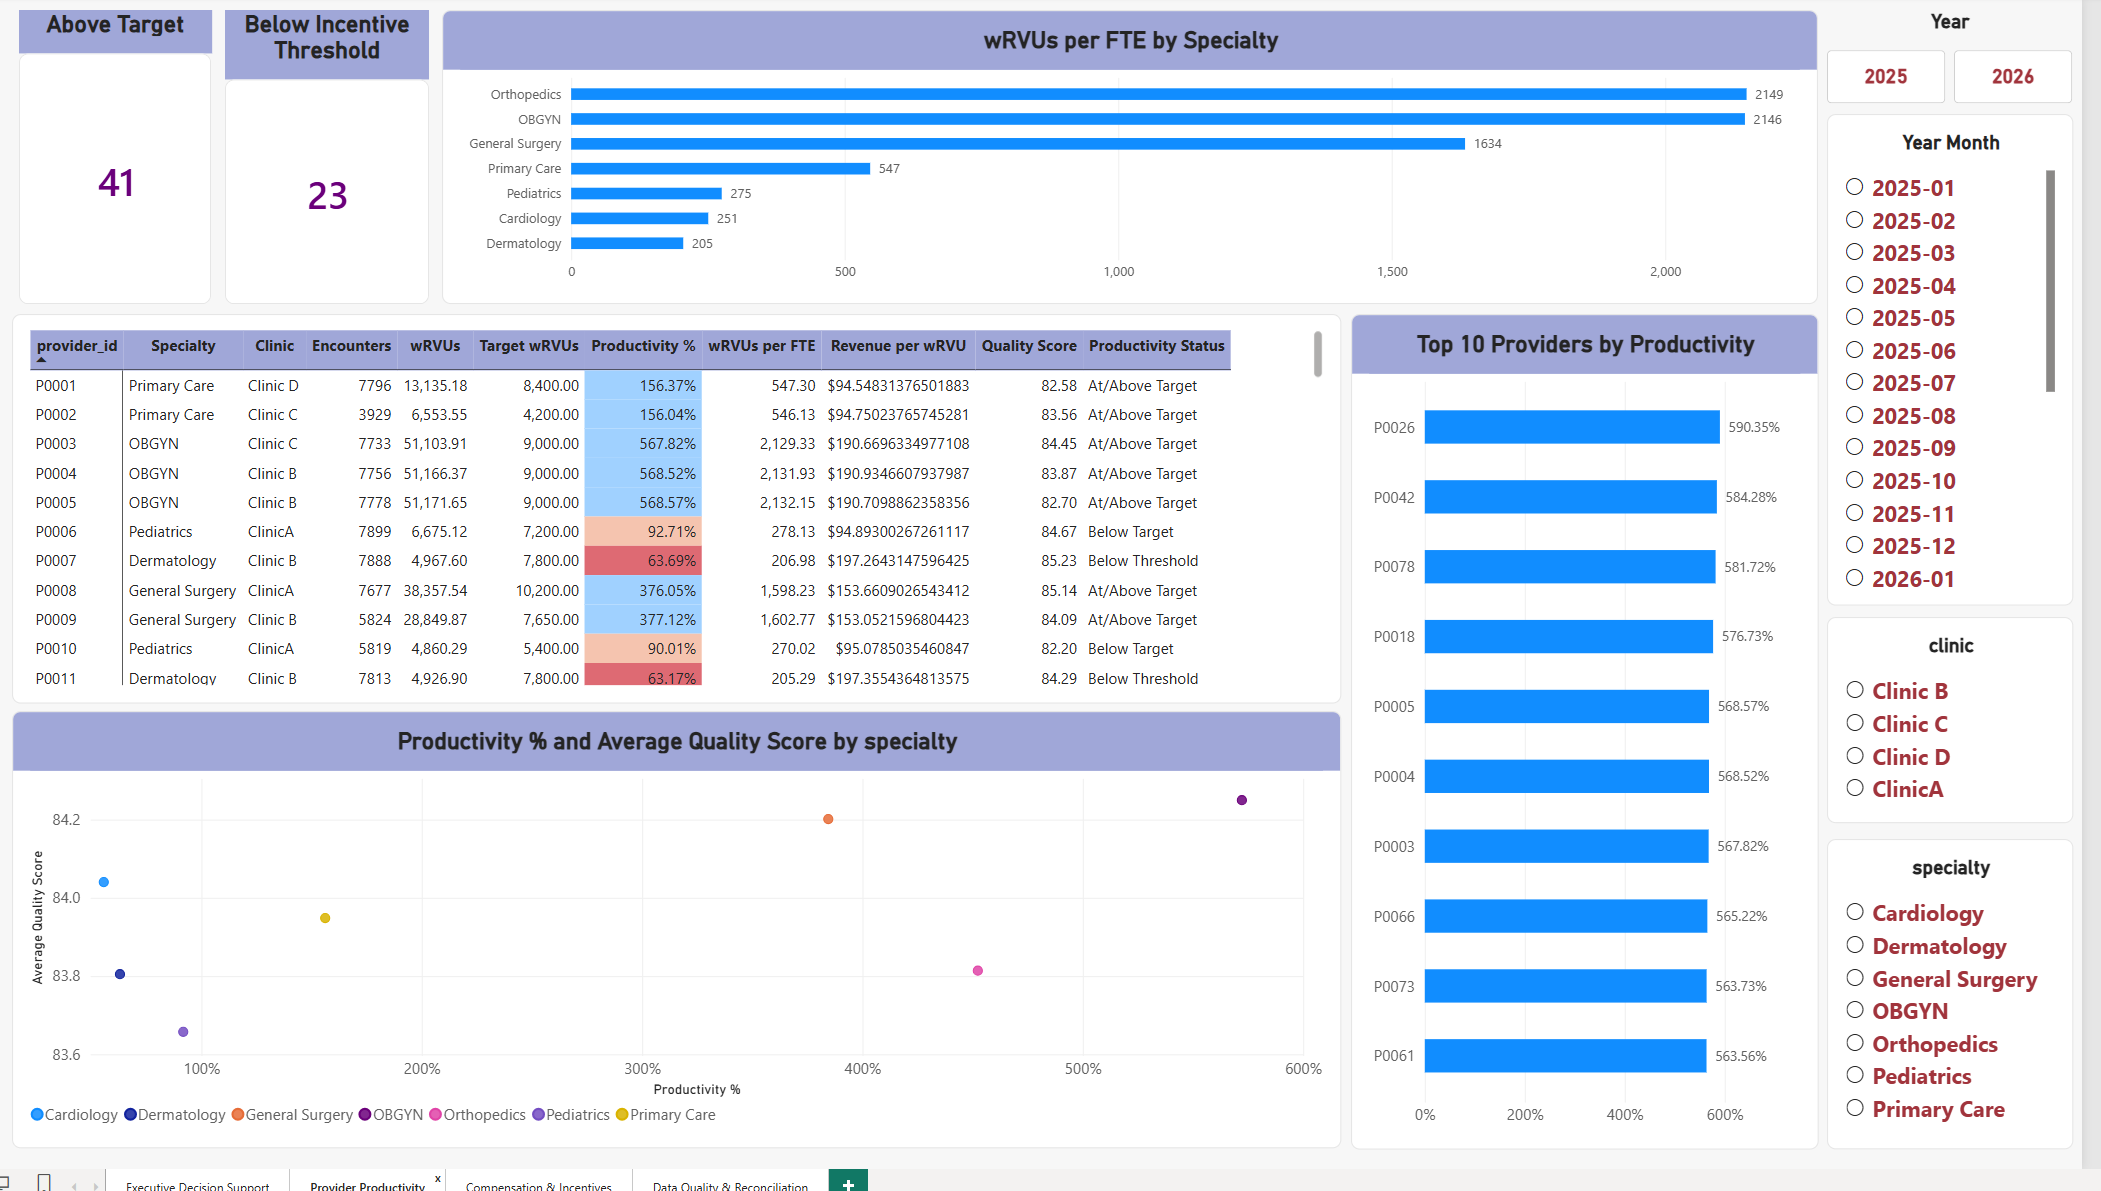

The page's visual inventory and layout, read from the dashboard file:
{"tool":"powerbi","page":{"name":"Provider Productivity","canvas":[1920,1080],"ordinal":1},"visuals":[{"type":"pivotTable","fields":{"Rows":["dim_providers.provider_id"],"Values":["Min(dim_providers.specialty)","Min(dim_providers.clinic)","fact_provider_monthly.Total Encounters","fact_provider_monthly.Total wRVUs","fact_provider_monthly.Target wRVUs","fact_provider_monthly.Productivity %","fact_provider_monthly.wRVUs per FTE","fact_provider_monthly.Revenue per wRVU","fact_provider_monthly.Average Quality Score","fact_provider_monthly.Productivity Status"]},"box":[12.8,291.9,1224.8,359],"z":0},{"type":"advancedSlicerVisual","fields":{"Values":["DimDate.Year"]},"box":[1685.8,11.9,227.1,86.9],"z":1000},{"type":"listSlicer","fields":{"Values":["DimDate.Year Month"]},"box":[1685.3,107.6,227.1,453.1],"z":2000},{"type":"listSlicer","fields":{"Values":["dim_providers.specialty"]},"box":[1685.3,775.8,227.1,285.8],"z":3000},{"type":"listSlicer","fields":{"Values":["dim_providers.clinic"]},"box":[1685.3,571.5,227.1,190.2],"z":4000},{"type":"clusteredBarChart","title":"Top 10 Providers by Productivity","fields":{"Category":["dim_providers.provider_id"],"Y":["fact_provider_monthly.Productivity %"]},"box":[1246.5,291.9,430.9,770.2],"z":5000},{"type":"scatterChart","fields":{"X":["fact_provider_monthly.Productivity %"],"Y":["fact_provider_monthly.Average Quality Score"],"Series":["dim_providers.specialty"]},"box":[12.9,658,1224.8,403.3],"z":6000},{"type":"cardVisual","title":"Above Target","fields":{"Data":["fact_provider_monthly.Providers Above Target"]},"box":[19.7,11.8,177.5,271.2],"z":7000},{"type":"cardVisual","title":"Below Incentive Threshold","fields":{"Data":["fact_provider_monthly.Providers Below Incentive Threshold"]},"box":[209.1,11.8,188.4,271.2],"z":8000},{"type":"barChart","title":"wRVUs per FTE by Specialty","fields":{"Category":["dim_providers.specialty"],"Y":["fact_provider_monthly.wRVUs per FTE"]},"box":[409.2,11.8,1268.2,271.2],"z":9000}]}

Visuals, with their boxes on the page's 1920x1080 design canvas (x1, y1, x2, y2). These are canvas units, not pixel positions in the 2101x1191 screenshot, which may show the page scaled, cropped or inside an application window:
pivotTable - dim_providers.provider_id x Min(dim_providers.specialty): 13 292 1238 651
advancedSlicerVisual - DimDate.Year: 1686 12 1913 99
listSlicer - DimDate.Year Month: 1685 108 1912 561
listSlicer - dim_providers.specialty: 1685 776 1912 1062
listSlicer - dim_providers.clinic: 1685 572 1912 762
"Top 10 Providers by Productivity" clusteredBarChart: 1246 292 1677 1062
scatterChart - fact_provider_monthly.Productivity % x fact_provider_monthly.Average Quality Score: 13 658 1238 1061
"Above Target" cardVisual: 20 12 197 283
"Below Incentive Threshold" cardVisual: 209 12 398 283
"wRVUs per FTE by Specialty" barChart: 409 12 1677 283
